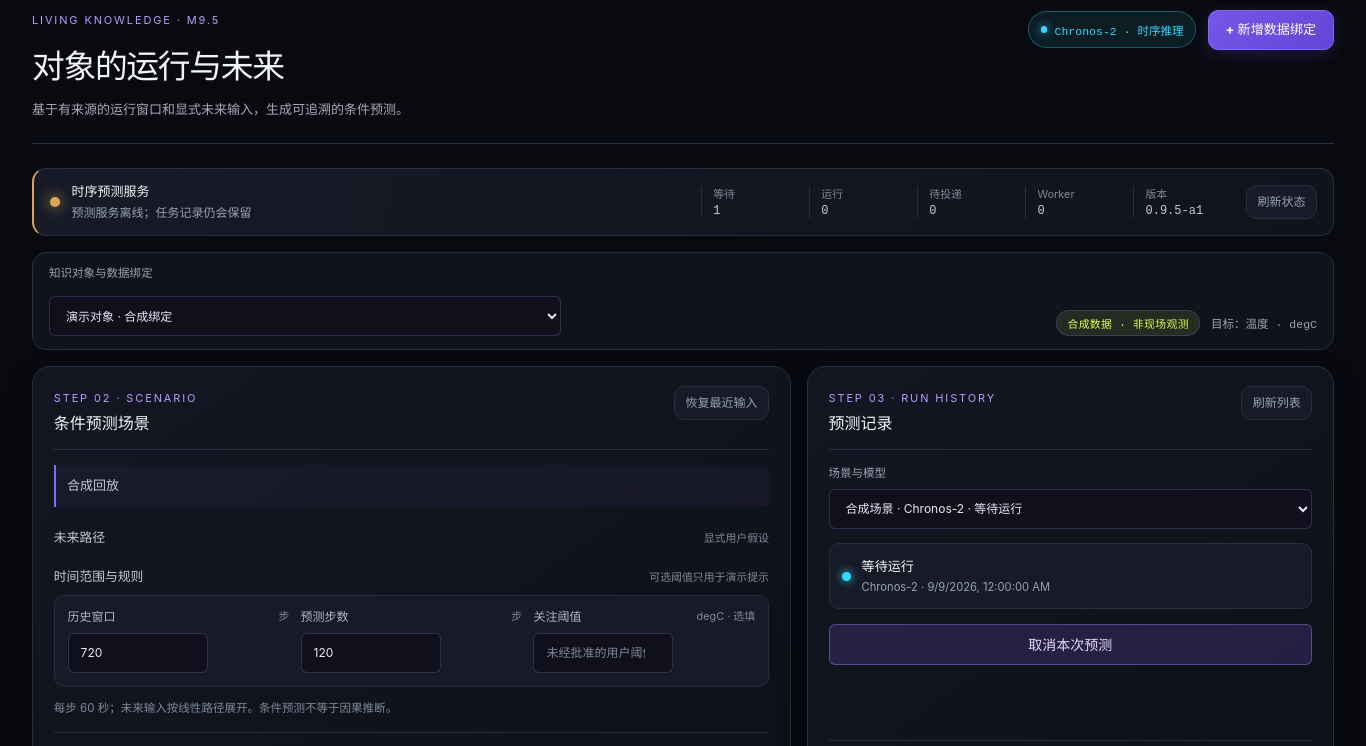
Scenario: shows offline retention and immediately presents a cancelled result
Expected: the text "预测服务离线；任务记录仍会保留" is shown, x1=72 y1=204 x2=252 y2=222
Click the button "取消本次预测" at (1070, 644), box x1=828 y1=624 x2=1312 y2=665
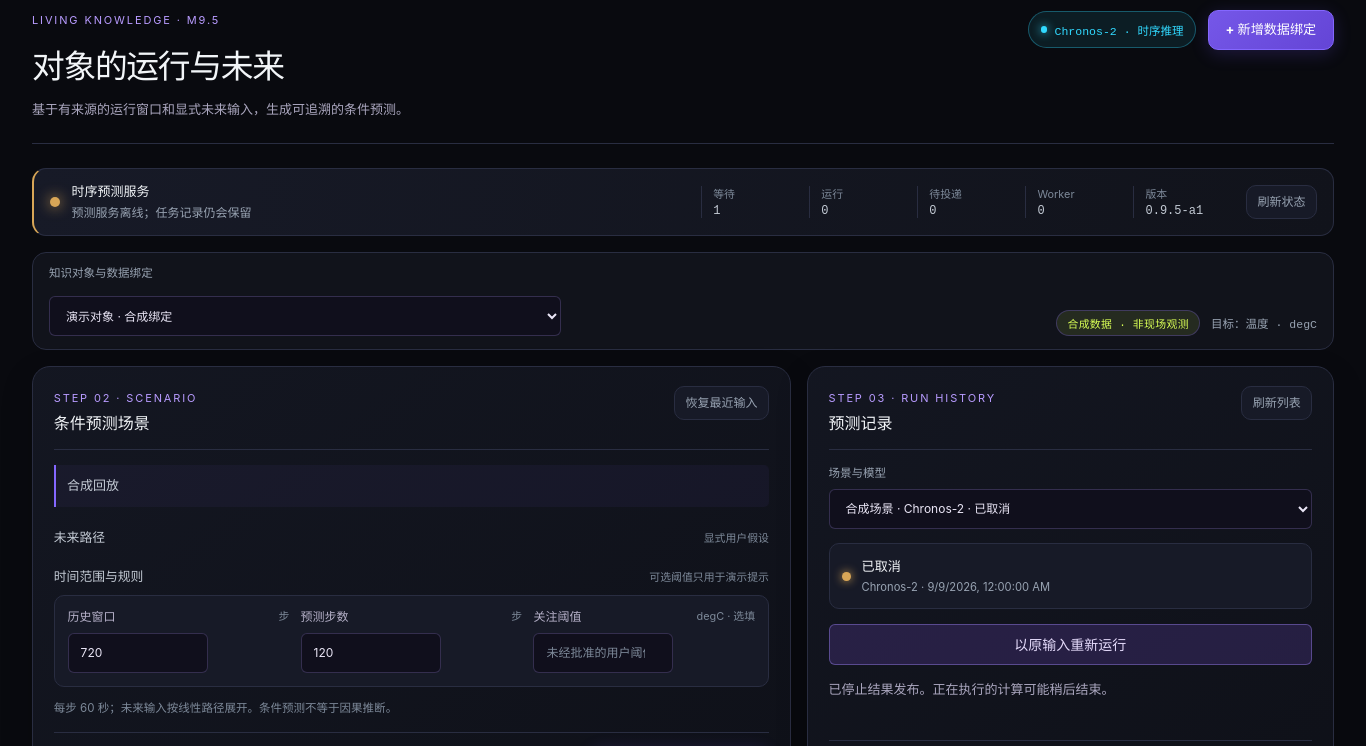
Expected: the text "已停止结果发布。正在执行的计算可能稍后结束。" is shown, x1=828 y1=681 x2=1114 y2=697
